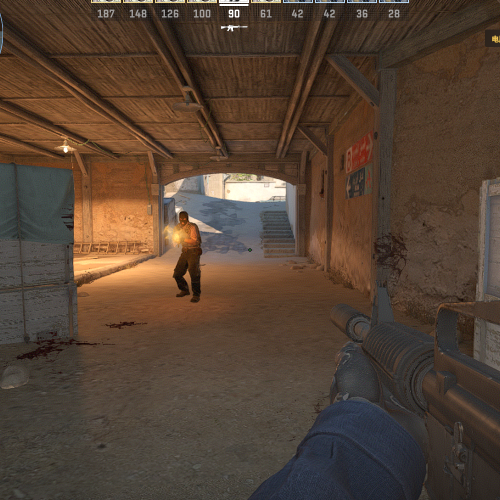t_body: (173, 211, 202, 303)
t_head: (178, 210, 189, 226)
